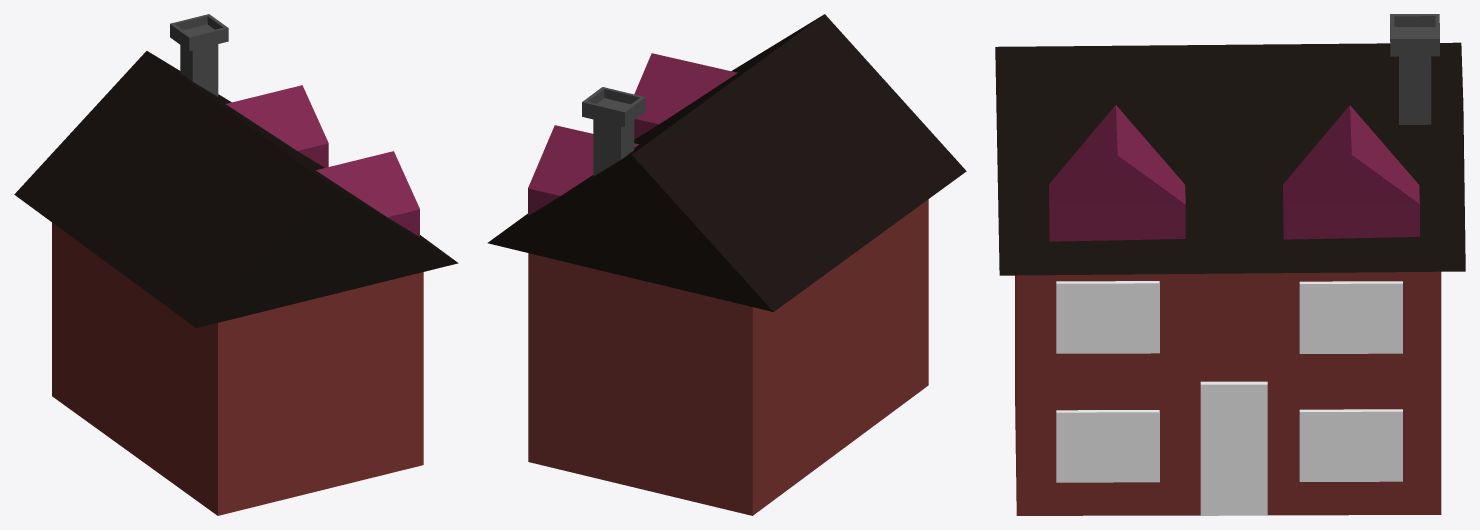
The model's file is HouseEditable.fbx.
The picture shows the model from 3 angles, left to right: view 1: azimuth 30°, elevation 25°; view 2: azimuth 150°, elevation 25°; view 3: azimuth 270°, elevation 25°; orthographic projection. The views are drawn at different scales.
Visible parts, largest first — view 1: Cube.003; view 2: Cube.003; view 3: Cube.003.
Part boxes in pixels (bbox=[...]): Cube.003: bbox=[14, 14, 458, 515]; Cube.003: bbox=[487, 14, 966, 515]; Cube.003: bbox=[995, 14, 1465, 515].
Bounding box in the file's own units: 187 × 231 × 222.
